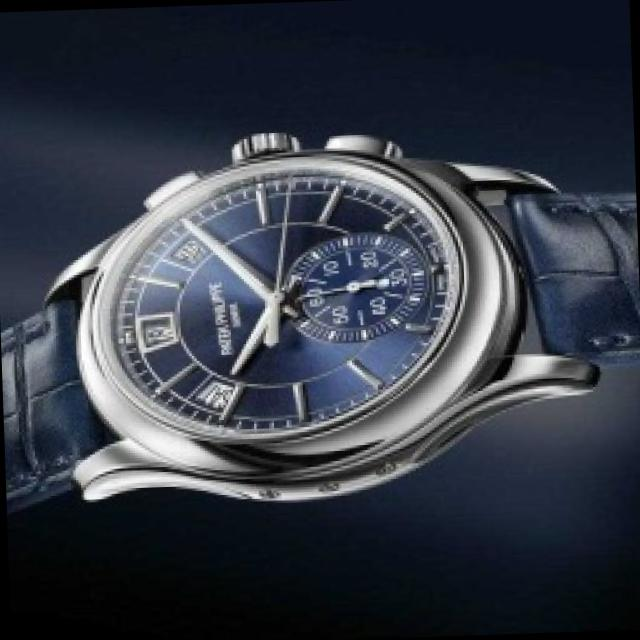saat: (0, 112, 640, 536)
